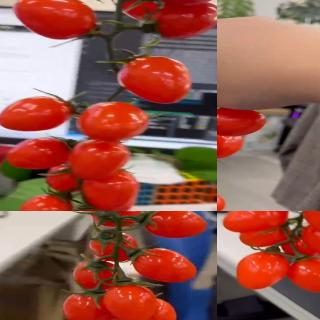tomato: (116, 53, 192, 103), (14, 0, 99, 41), (77, 102, 148, 143), (0, 97, 73, 134), (68, 140, 130, 180), (132, 246, 199, 283), (80, 169, 139, 211), (154, 0, 217, 37), (4, 138, 71, 171), (236, 251, 291, 291), (101, 283, 158, 320), (140, 211, 208, 238), (89, 231, 143, 263), (238, 221, 293, 250), (61, 291, 114, 320), (72, 260, 117, 294), (217, 107, 266, 138), (222, 211, 291, 233), (284, 255, 320, 294), (119, 0, 176, 24), (125, 296, 180, 320), (12, 194, 74, 211), (90, 211, 146, 229), (217, 132, 246, 158), (302, 223, 320, 257)
